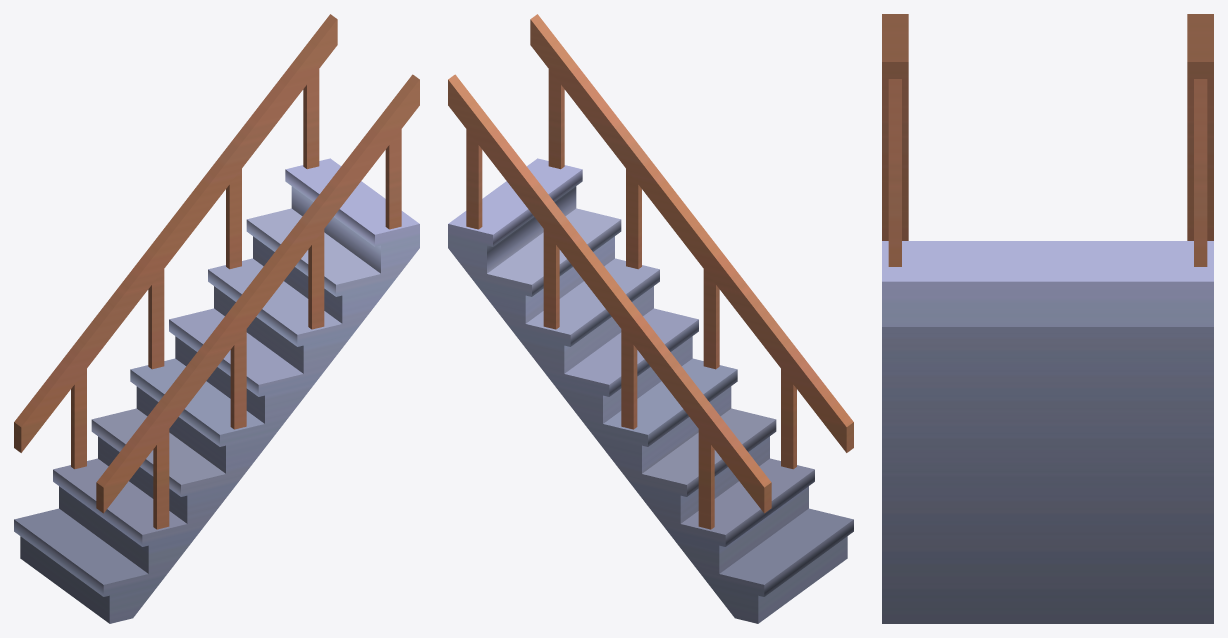
File: stairs-stone-handrail.glb
3 views of the same model, side by side, from view 1: azimuth 30°, elevation 25°; view 2: azimuth 150°, elevation 25°; view 3: azimuth 270°, elevation 25° (orthographic). The views are drawn at different scales.
Parts seen in each view (by area): view 1: stairs-stone-handrail; view 2: stairs-stone-handrail; view 3: stairs-stone-handrail.
Part boxes in pixels (left/top/right/bottom): stairs-stone-handrail: left=14, top=14, right=419, bottom=623; stairs-stone-handrail: left=448, top=14, right=853, bottom=623; stairs-stone-handrail: left=882, top=14, right=1213, bottom=623.
Bounding box in the file's own units: 1.02 × 1.45 × 0.5.
1 material, 1 textured.
